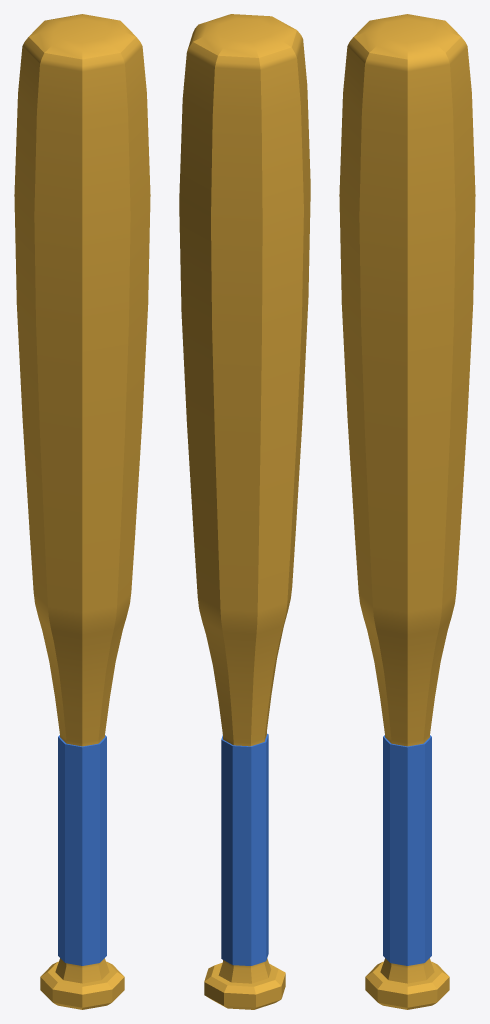
Rendered from baseballbat.fbx.
3 views of the same model, side by side, from view 1: azimuth 90°, elevation 25°; view 2: azimuth 150°, elevation 25°; view 3: azimuth 270°, elevation 25° (orthographic).
Visible parts, largest first — view 1: pCylinder1; view 2: pCylinder1; view 3: pCylinder1.
Boxes of the visible parts, box(x1,y1,x2,y2) form: pCylinder1: box(14, 14, 150, 1009); pCylinder1: box(179, 14, 310, 1009); pCylinder1: box(339, 14, 475, 1009).
Bounding box in the file's own units: 13 × 102 × 13.
